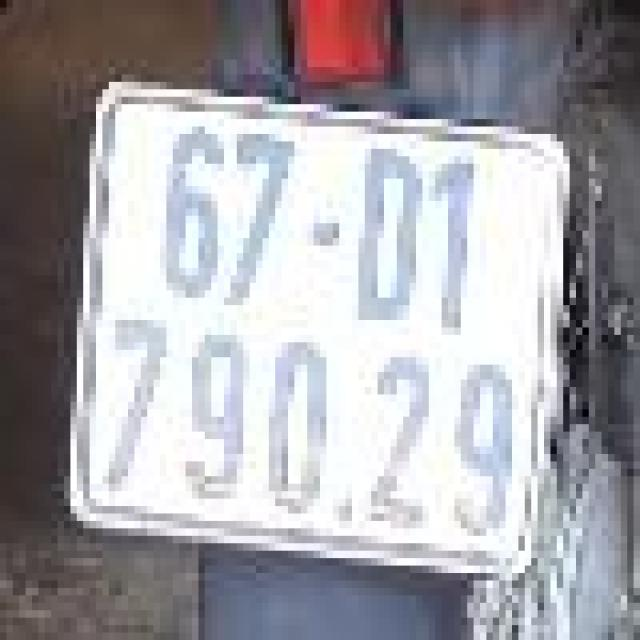0: (259, 331, 336, 525)
1: (429, 149, 486, 342)
2: (358, 346, 436, 547)
6: (147, 112, 230, 305)
7: (99, 305, 176, 499), (227, 123, 298, 324)
9: (444, 350, 522, 558), (186, 328, 250, 498)
D: (346, 130, 428, 339)
